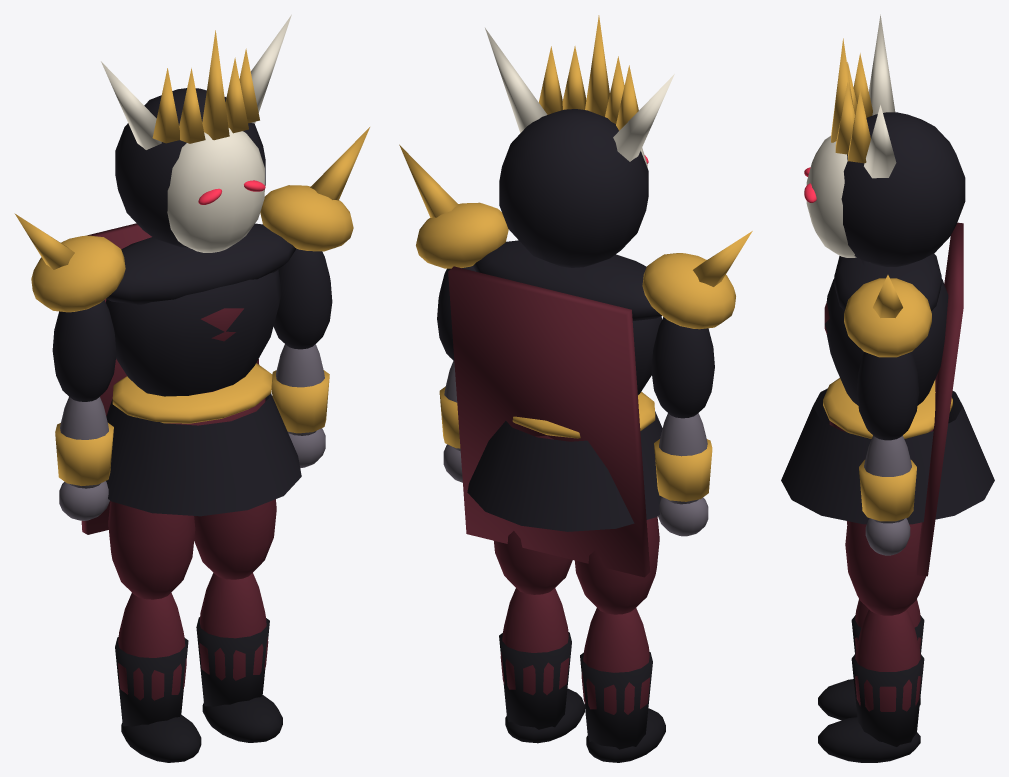
The model's file is ashen_king.glb.
3 renders of one model, left to right at view 1: azimuth 30°, elevation 25°; view 2: azimuth 150°, elevation 25°; view 3: azimuth 270°, elevation 25°, orthographic. The views are drawn at different scales.
Parts seen in each view (by area): view 1: Torso, Head, Hips, LowerLegR, LowerLegL, UpperLegR, LowerArmR, UpperArmR, LowerArmL, UpperLegL, UpperArmL; view 2: Torso, Head, Hips, LowerLegL, LowerLegR, LowerArmR, UpperArmR, UpperLegR, UpperLegL, LowerArmL, UpperArmL; view 3: Head, Torso, Hips, LowerLegL, LowerArmL, UpperLegL, UpperArmL, LowerLegR.
Boxes of the visible parts, x1,y1,x2,y2 form: Torso: [14, 127, 369, 534]; Head: [101, 14, 291, 252]; Hips: [106, 363, 301, 516]; LowerLegR: [115, 592, 201, 762]; LowerLegL: [196, 573, 282, 742]; UpperLegR: [108, 501, 195, 599]; LowerArmR: [55, 397, 113, 520]; UpperArmR: [52, 300, 116, 401]; LowerArmL: [271, 344, 329, 468]; UpperLegL: [194, 499, 276, 579]; UpperArmL: [273, 248, 332, 349]; Torso: [399, 144, 752, 577]; Head: [485, 15, 674, 267]; Hips: [467, 392, 662, 531]; LowerLegL: [499, 588, 584, 743]; LowerLegR: [580, 608, 665, 762]; LowerArmR: [654, 413, 712, 536]; UpperArmR: [651, 317, 714, 418]; UpperLegR: [574, 516, 659, 614]; UpperLegL: [494, 531, 572, 594]; LowerArmL: [439, 361, 462, 482]; UpperArmL: [437, 266, 475, 360]; Head: [804, 14, 965, 266]; Torso: [824, 222, 963, 576]; Hips: [781, 378, 994, 524]; LowerLegL: [818, 609, 924, 762]; LowerArmL: [859, 435, 916, 555]; UpperLegL: [845, 521, 925, 615]; UpperArmL: [856, 352, 919, 440]; LowerLegR: [818, 599, 924, 720].
Size of the model in its own units: 1.07 by 2.08 by 0.5734.
